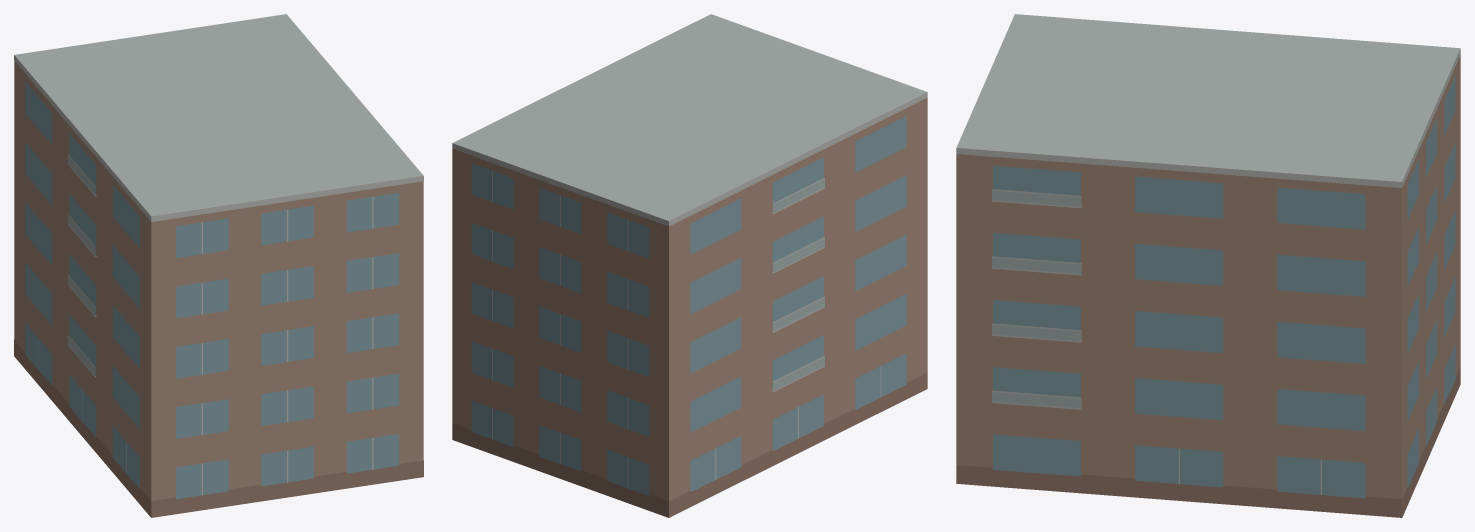
File: survey-upis-32960191.glb
The picture shows the model from 3 angles, left to right: view 1: azimuth 30°, elevation 25°; view 2: azimuth 150°, elevation 25°; view 3: azimuth 270°, elevation 25°; orthographic projection. The views are drawn at different scales.
Visible parts, largest first — view 1: survey-upis-32960191.tmp; view 2: survey-upis-32960191.tmp; view 3: survey-upis-32960191.tmp.
Boxes of the visible parts, box(x1,y1,x2,y2) form: survey-upis-32960191.tmp: box(14, 14, 423, 517); survey-upis-32960191.tmp: box(452, 14, 927, 517); survey-upis-32960191.tmp: box(956, 14, 1460, 517).
Size of the model in its own units: 14.39 by 13.4 by 18.25.
